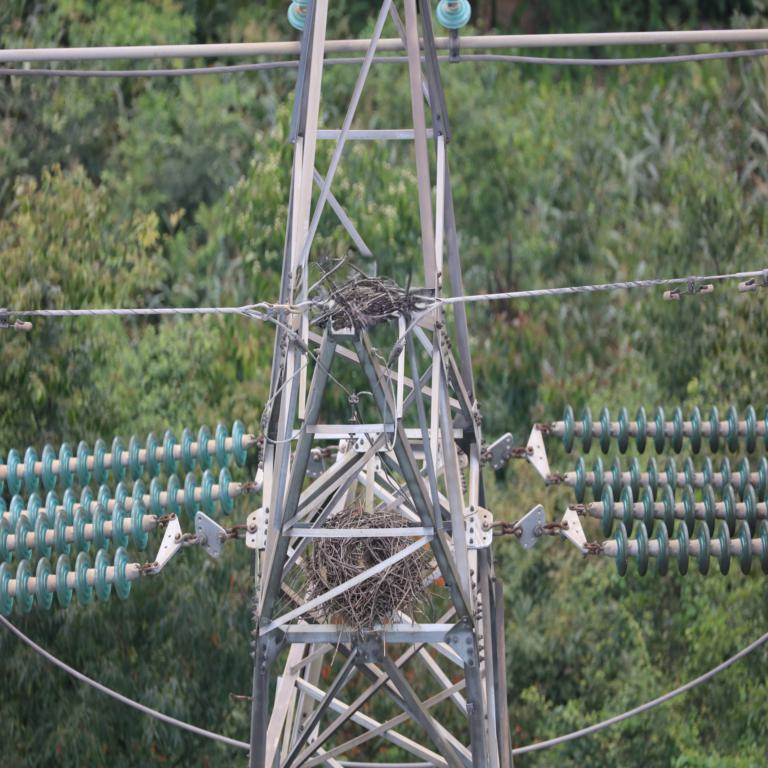nest: (307, 507, 431, 620), (324, 277, 414, 324)
